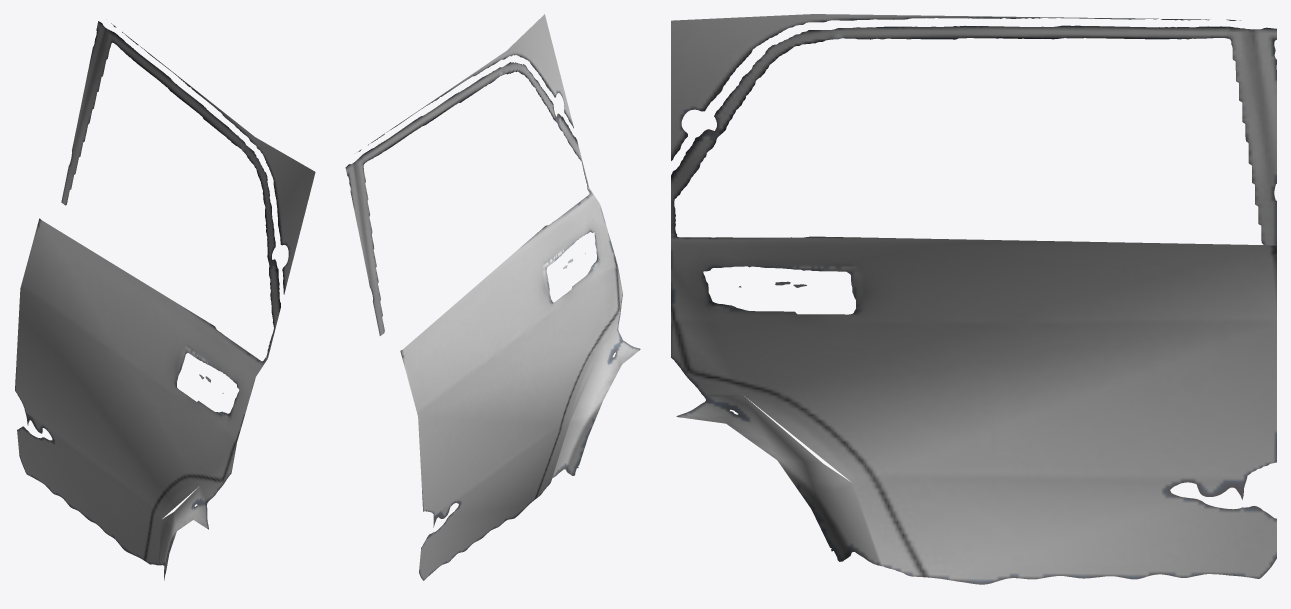
File: SM_AbandonedCar_Door_RL.fbx
3 renders of one model, left to right at view 1: azimuth 30°, elevation 25°; view 2: azimuth 150°, elevation 25°; view 3: azimuth 270°, elevation 25°, orthographic. The views are drawn at different scales.
Parts seen in each view (by area): view 1: SM_AbandonedCar_Door_RL; view 2: SM_AbandonedCar_Door_RL; view 3: SM_AbandonedCar_Door_RL.
Part boxes in pixels (box(x1,y1,x2,y2)): SM_AbandonedCar_Door_RL: box(15, 21, 315, 580); SM_AbandonedCar_Door_RL: box(345, 14, 640, 580); SM_AbandonedCar_Door_RL: box(671, 14, 1276, 584).
Bounding box in the file's own units: 24.48 × 99.5 × 87.
Materials: 1 (1 with a texture image).
